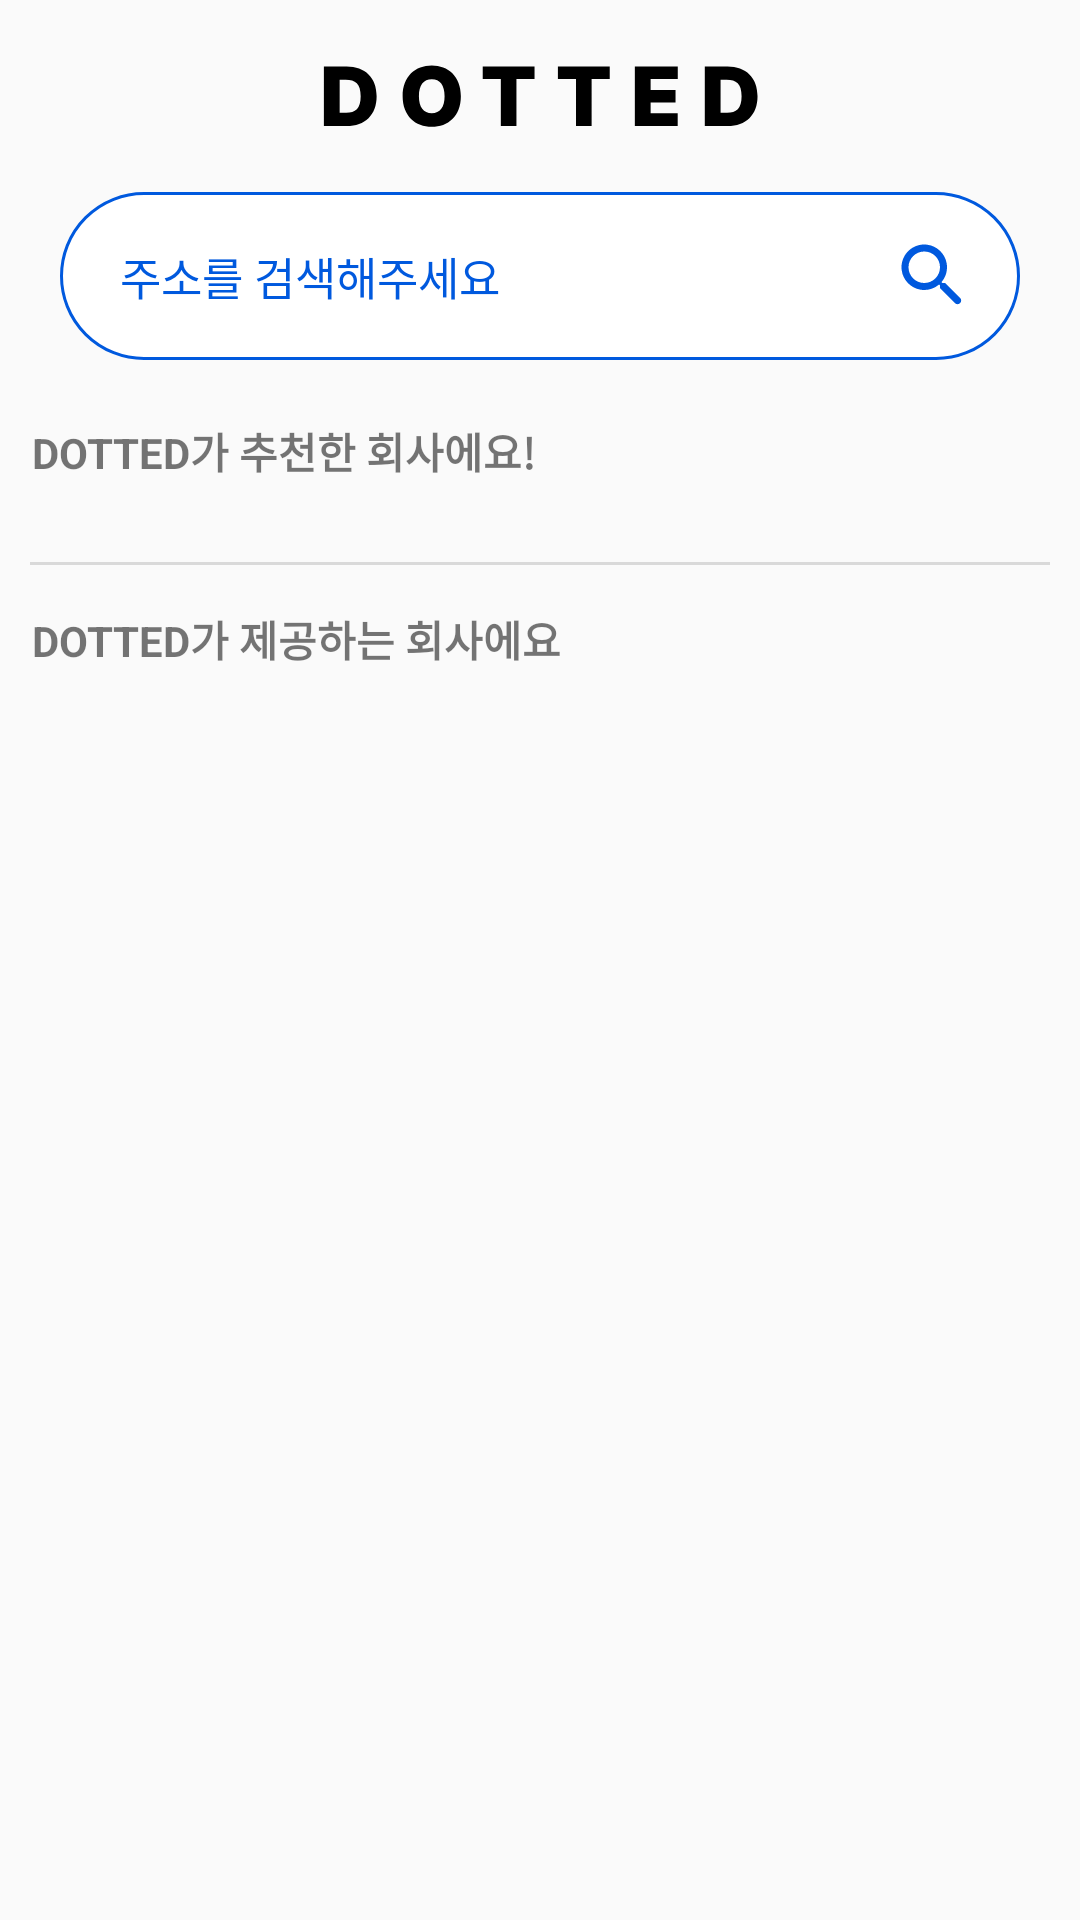

Icons on this 1080*1920 Android screen, each with its box as (x1, y1, x2, y2):
search: (901, 244, 962, 305)
